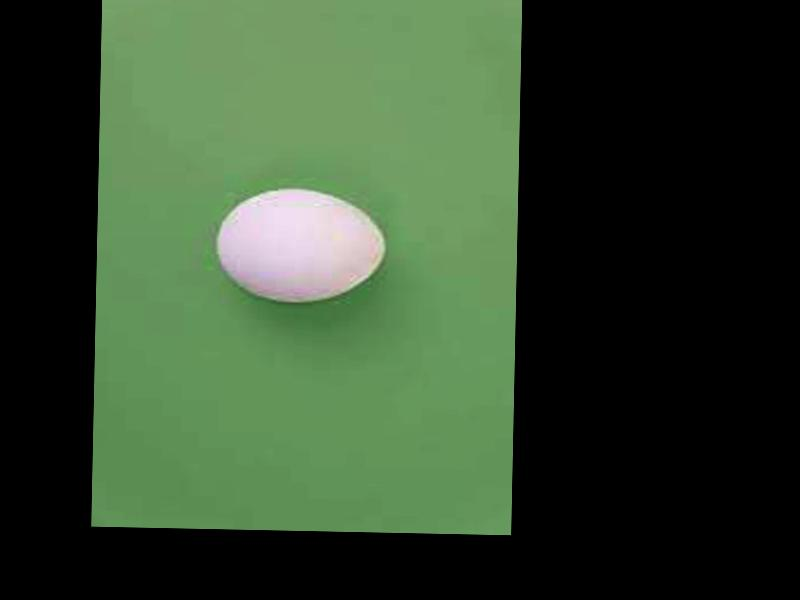Eggs: (213, 187, 386, 305)
